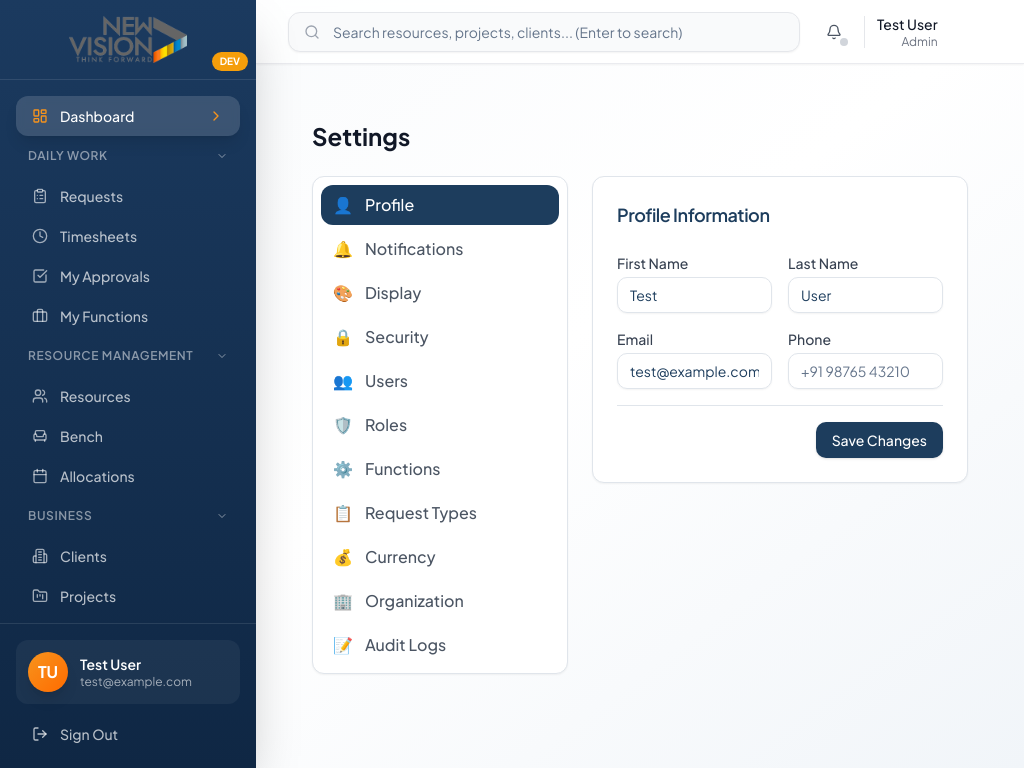
Scenario: SettingsPage › Tab Switching › switches to Display tab when clicked
Click the button "🎨 Display".
click(440, 293)  # box [321, 273, 559, 313]
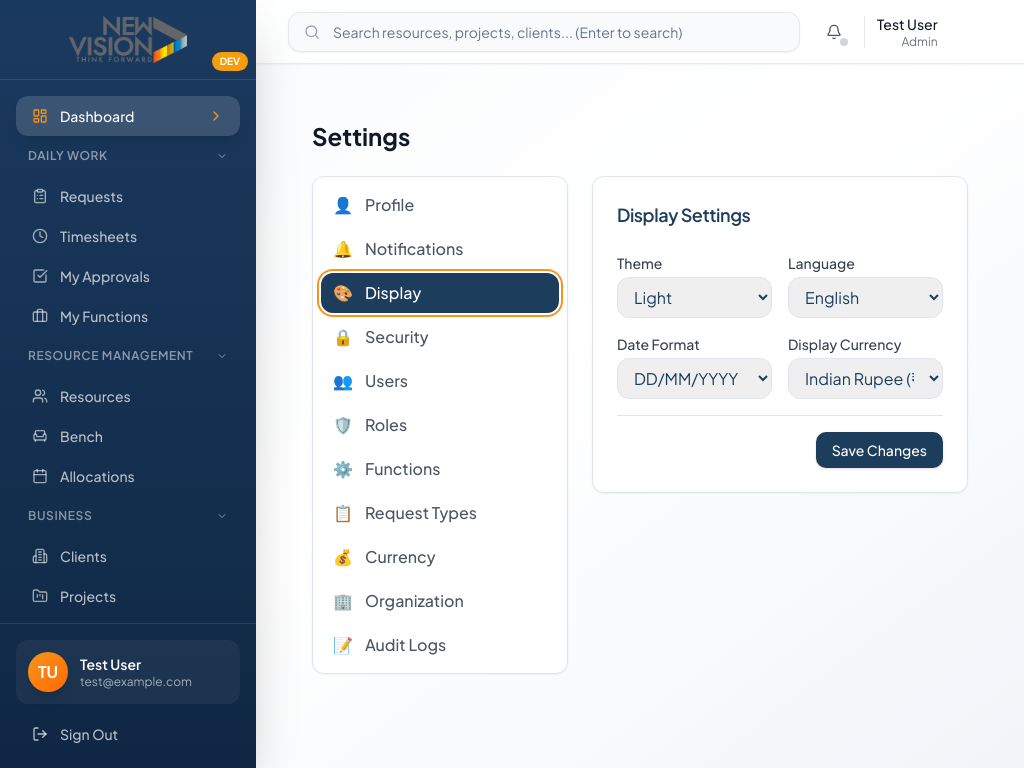
Expected: the text "Theme" is shown, [617, 254, 662, 272]
